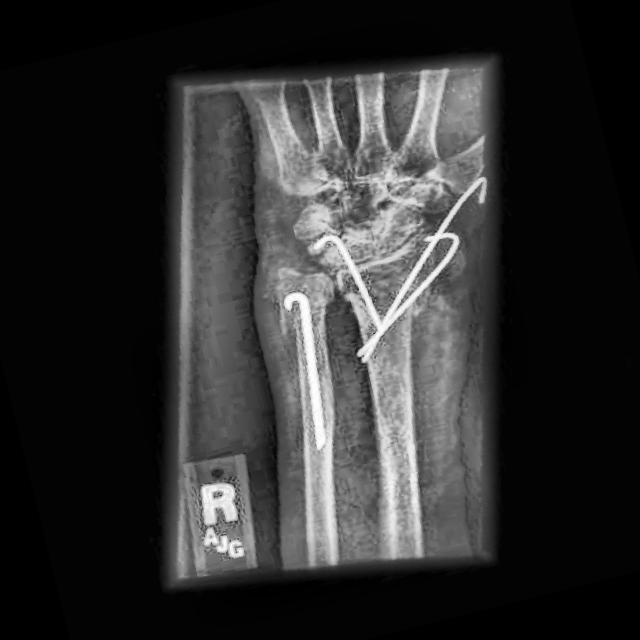fingers positive: (264, 256, 461, 341)
